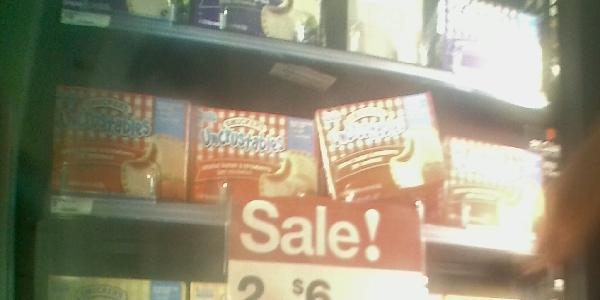icecream: (49, 87, 186, 202), (323, 90, 441, 197), (190, 106, 321, 202), (439, 133, 549, 231)
